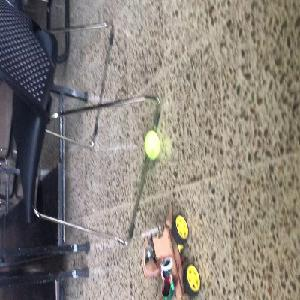Ball: (144, 130, 160, 160)
Robot: (142, 202, 200, 299)
